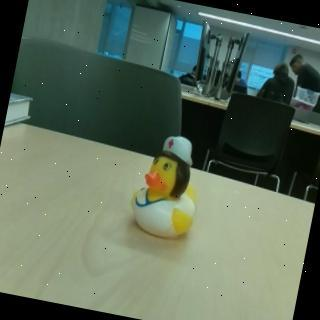duck_specialty: (124, 127, 211, 244)
